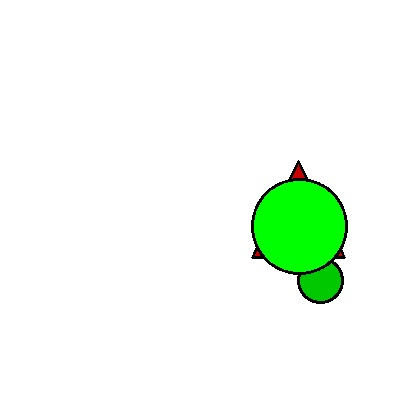circle: (240, 179, 359, 274), (298, 223, 342, 338)
triangle: (252, 161, 344, 257)
